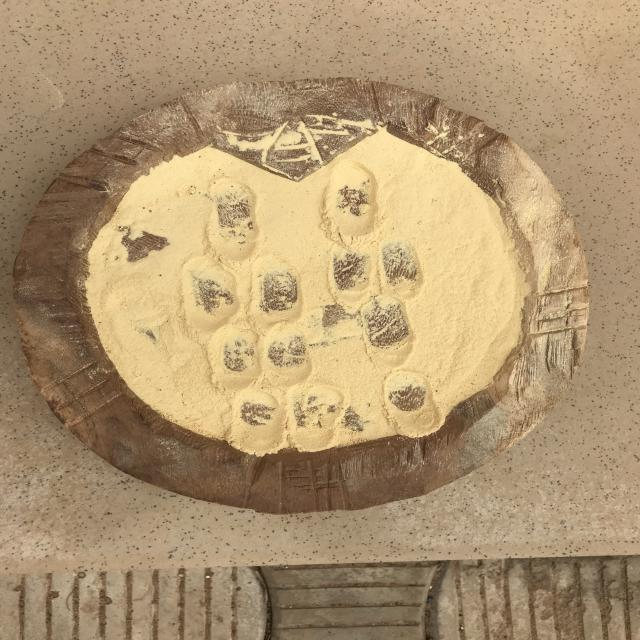double: (212, 378, 348, 452), (181, 253, 306, 323), (200, 318, 316, 388), (330, 241, 432, 299)
single: (320, 159, 382, 247), (376, 366, 448, 438), (353, 296, 419, 364), (206, 179, 258, 262)
